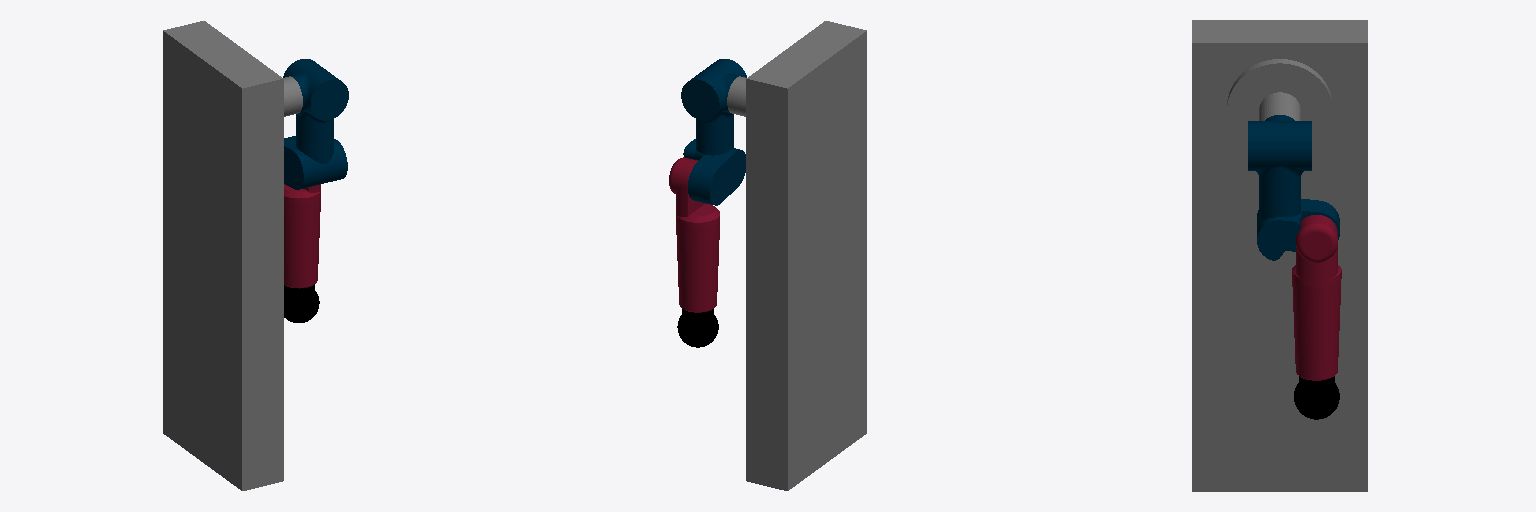
The robot description file, URDF, robot "rr_robot":
<?xml version="1.0"?>
<robot name="rr_robot">
    
    <!-- TO CHECK INERTIA PROPERTIES RUN roslaunch robot_inertia_publisher robot_inertia_publisher.launch --> 

    <material name="grey">
        <color rgba="0.5 0.5 0.5 1"/>
    </material>
    <material name="blue">
        <color rgba="0.0 0.2 0.3 1"/>
    </material>
    <material name="red">
        <color rgba="0.5 0.1 0.2 1"/>
    </material>
    <material name="black">
        <color rgba="0.0 0.0 0.0 1"/>
    </material>

    <link name="L00">
        <visual>
            <origin xyz="0.0 0.0 1.2" rpy="0.0 0.0 0.0"/>
            <geometry>
                <mesh filename="package://tameshiwari/robots/rr_robot_description/meshes/RR_L00.stl" scale="1 1 1"/>
            </geometry>
            <material name="grey"/>
        </visual>
        <collision>
            <origin xyz="0.0 0.0 1.2" rpy="0.0 0.0 0.0"/>
            <geometry>
                <mesh filename="package://tameshiwari/robots/rr_robot_description/meshes/RR_L00.stl" scale="1 1 1"/>
            </geometry>
        </collision>
        <inertial>
            <origin xyz="-0.250003 0.0 0.71829"/>
            <mass value="294.264"/>
            <inertia ixx="5.488e+1" ixy="1.505e-15" ixz="-7.083e-1" iyy="4.970e+1" iyz="-7.715e-16" izz="6.708e0"/>
        </inertial>
    </link>

    <joint name="J01" type="revolute">
        <origin xyz="0.0 0.0 1.2" rpy="0.0 1.5707 0.0"/>
        <parent link="L00"/>
        <child link="L01"/>
        <axis xyz="0.0 0.0 1.0"/>
        <limit effort="10000" velocity="0.5" lower="-1.6580627893946132" upper="3.4033920413889427"/> 
        <!-- enforcing joint limits from [-5*pi/12,17*pi/12], resulting in a deadzone of 30 degrees -->
    </joint>
    
    <transmission name="trans_J01">
        <type>transmission_interface/SimpleTransmission</type>
        <joint name="J01">
            <hardwareInterface>hardware_interface/EffortJointInterface</hardwareInterface>
        </joint>
        <actuator name="motor_J01">
             <hardwareInterface>hardware_interface/EffortJointInterface</hardwareInterface>
             <mechanicalReduction>1</mechanicalReduction>
        </actuator>
    </transmission>

    <link name="L01">
        <visual>
            <origin xyz="0.0 0.0 0.0" rpy="0.0 0.0 0.0"/>
            <geometry>
                <mesh filename="package://tameshiwari/robots/rr_robot_description/meshes/RR_L01.stl" scale="1 1 1"/>
            </geometry>
            <material name="blue" />
        </visual>
        <collision>
            <origin xyz="0.0 0.0 0.0" rpy="0.0 0.0 0.0"/>
            <geometry>
                <mesh filename="package://tameshiwari/robots/rr_robot_description/meshes/RR_L01.stl" scale="1 1 1"/>
            </geometry>
        </collision>
        <inertial>
            <origin xyz="0.137493 0.016049 0.072961"/>
            <mass value="4.000"/>
            <inertia ixx="1.874e-2" ixy="-8.635e-3" ixz="3.029e-3" iyy="6.591e-2" iyz="1.799e-3" izz="7.232e-2"/>
        </inertial>
    </link>

    <joint name="J02" type="revolute">
        <origin xyz="0.27276731 0.1042208 0.08000" rpy="0.0 0.0 0.0"/>
        <parent link="L01"/>
        <child link="L02"/>
        <axis xyz="0.0 0.0 1.0"/>
        <limit lower="-0.3490658503988659" upper="2.530727415391778" effort="1000.0" velocity="0.5"/>
    </joint>

    <transmission name="trans_J02">
        <type>transmission_interface/SimpleTransmission</type>
        <joint name="J02">
            <hardwareInterface>hardware_interface/EffortJointInterface</hardwareInterface>
        </joint>
        <actuator name="motor_J02">
             <hardwareInterface>hardware_interface/EffortJointInterface</hardwareInterface>
             <mechanicalReduction>1</mechanicalReduction>
        </actuator>
    </transmission>

    <link name="L02">
        <visual>
            <origin xyz="0.0 0.0 0.0" rpy="0.0 0.0 0.0"/>
            <geometry>
                <mesh filename="package://tameshiwari/robots/rr_robot_description/meshes/RR_L02.stl" scale="1 1 1"/>
            </geometry>
            <material name="red" />
        </visual>
        <collision>
            <origin xyz="0.0 0.0 0.0" rpy="0.0 0.0 0.0"/>
            <geometry>
                <mesh filename="package://tameshiwari/robots/rr_robot_description/meshes/RR_L02.stl" scale="1 1 1"/>
            </geometry>
        </collision>
        <inertial>
            <origin xyz="0.216738 0.0 0.007196"/>
            <mass value="4.000"/>
            <inertia ixx="8.907e-3" ixy="1.149e-9" ixz="5.612e-3" iyy="7.55e-2" iyz="-9.590e-9" izz="7.114e-2"/>
        </inertial>
        
    </link>

    <joint name="J03" type="fixed">
        <origin xyz="0.505184 0.0 0.0" rpy="0.0 0.0 0.0"/>
        <parent link="L02"/>
        <child link="EE"/>
    </joint>

    <link name="EE">
        <visual>
            <origin xyz="-0.070184 0.0 0.0" rpy="0.0 0.0 0.0"/>
            <geometry>
                <mesh filename="package://tameshiwari/robots/rr_robot_description/meshes/RR_EE.stl" scale="1 1 1"/>
            </geometry>
            <material name="black" />
        </visual>
        <collision>
            <origin xyz="-0.070184 0.0 0.0" rpy="0.0 0.0 0.0"/>
            <geometry>
                <mesh filename="package://tameshiwari/robots/rr_robot_description/meshes/RR_EE.stl" scale="1 1 1"/>
            </geometry>
        </collision>
        <inertial>
            <origin xyz="0.0 0.0 0.0"/>
            <mass value="2.000"/>
            <inertia ixx="0.3466e-2" ixy="0.0" ixz="0.0" iyy="0.3878e-2" iyz="0.0" izz="0.3878e-2"/>
        </inertial>
    </link>

</robot>

--- Render facts (derived) ---
The picture shows the robot from 3 angles, left to right: view 1: azimuth 30°, elevation 25°; view 2: azimuth 150°, elevation 25°; view 3: azimuth 270°, elevation 25°; orthographic projection.
Model rr_robot with 4 links and 3 joints (2 revolute, 1 fixed), rooted at L00, posed every joint at zero.
Visible links, largest first — view 1: L00, L01, L02, EE; view 2: L00, L01, L02, EE; view 3: L00, L01, L02, EE.
Link boxes in pixels (x1,y1,x2,y2): L00: (163, 21, 302, 490); L01: (283, 59, 348, 189); L02: (284, 184, 320, 288); EE: (284, 284, 319, 322); L00: (727, 21, 866, 490); L01: (681, 59, 746, 205); L02: (669, 157, 719, 312); EE: (677, 309, 718, 347); L00: (1192, 20, 1367, 491); L01: (1248, 115, 1339, 260); L02: (1292, 215, 1341, 380); EE: (1294, 376, 1339, 419).
Bounding box of the posed robot: 0.49 × 0.5 × 1.4 m (x, y, z).
Meshes: 4 distinct files referenced, 4 mesh visuals loaded (4 binary STL).